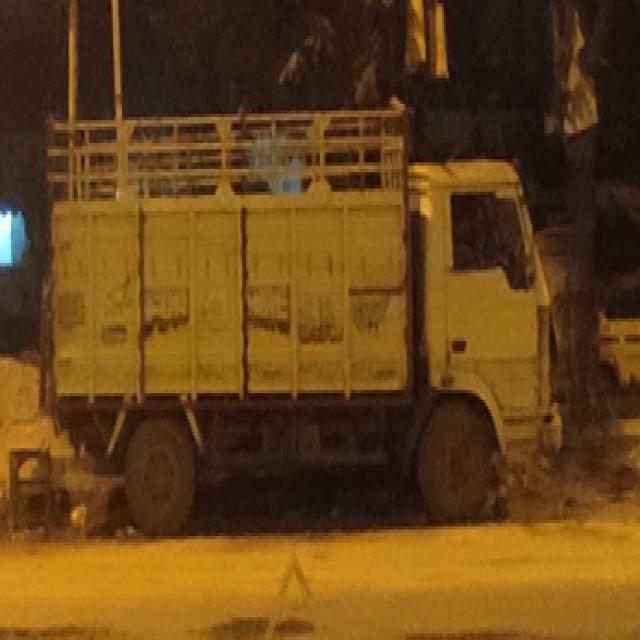minitruck: (37, 94, 562, 540)
